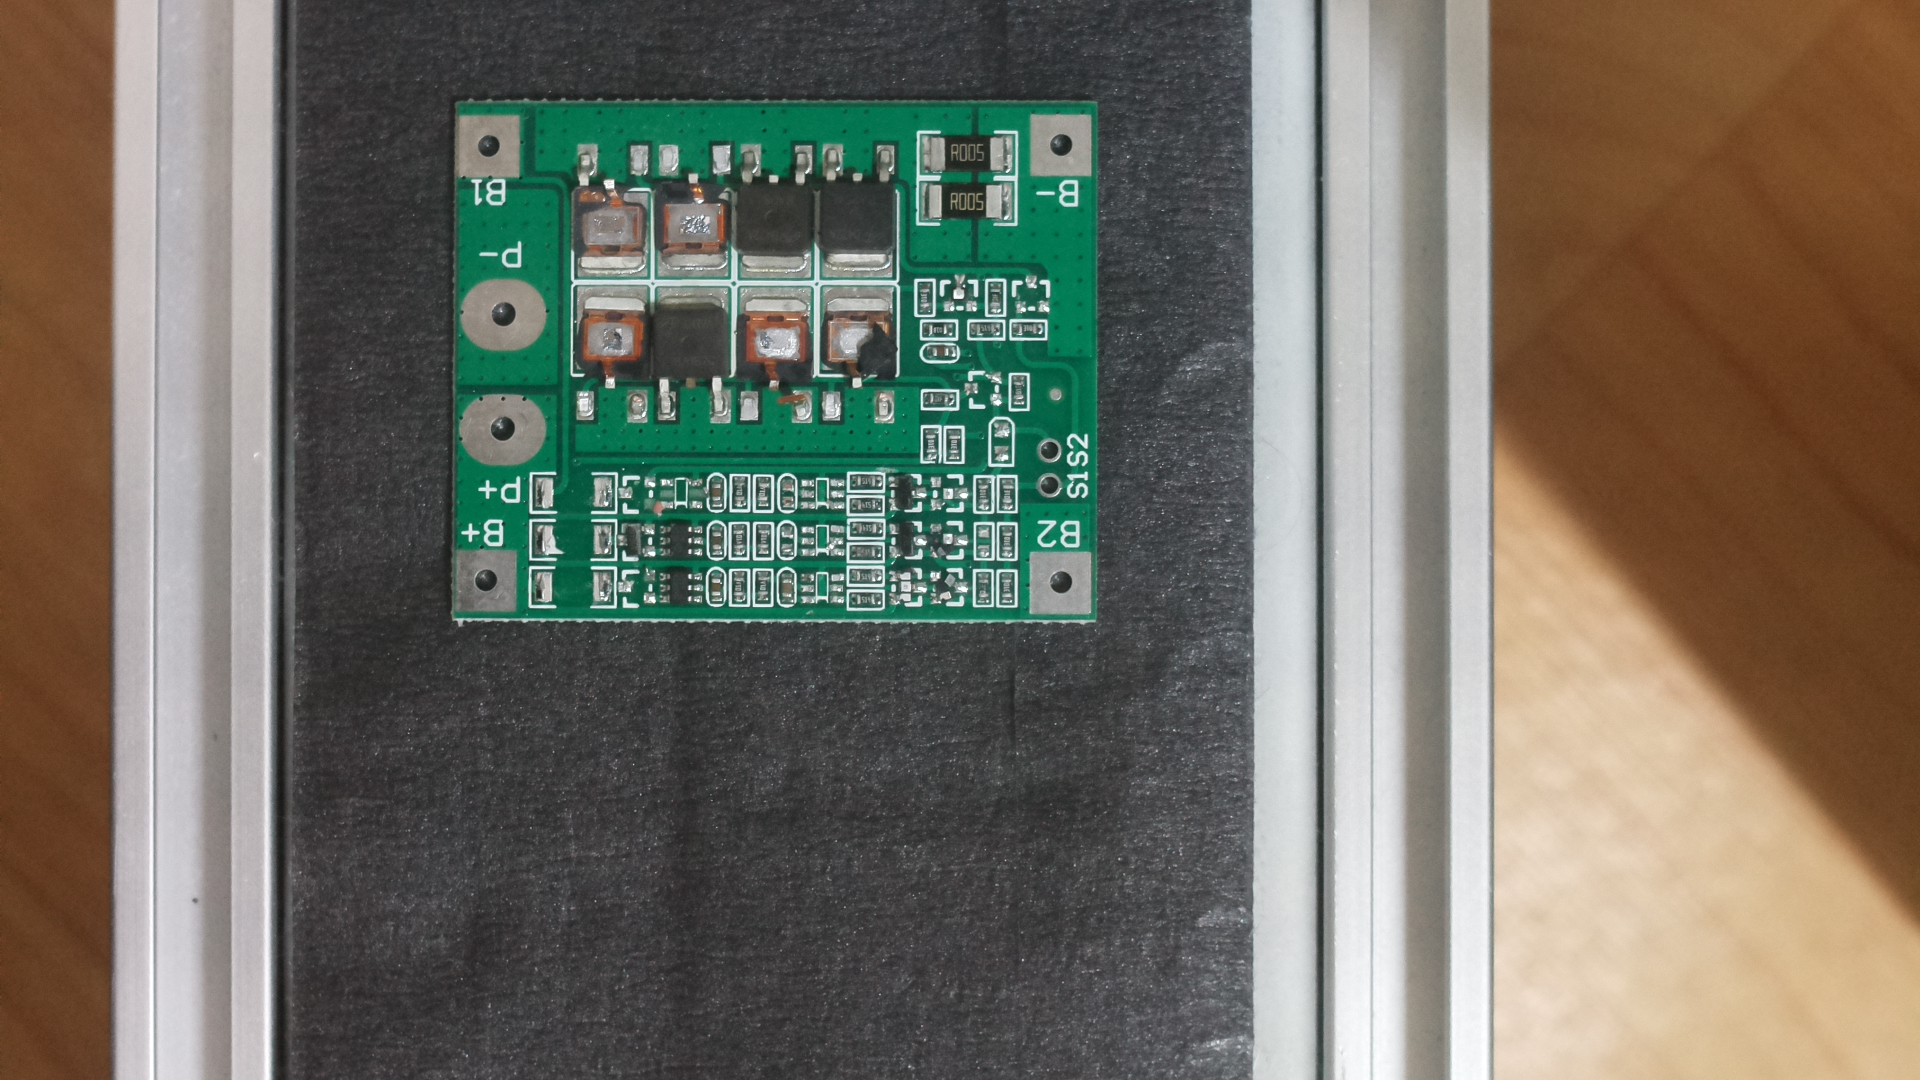C_Missing_part: (439, 84, 1125, 657)
